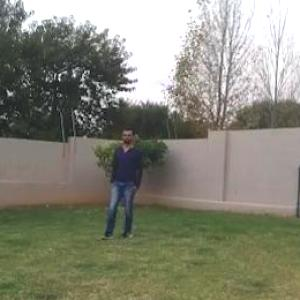follow: (112, 128, 140, 235)
